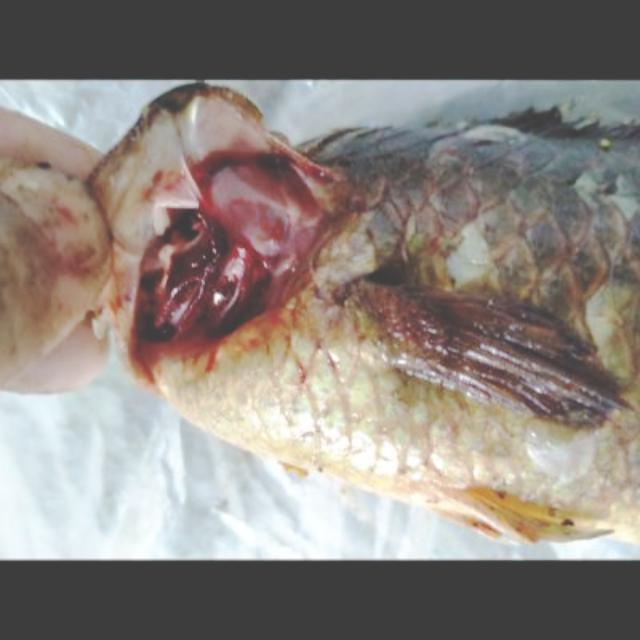Flavobacterium -Bacterial Gill Disease-: (88, 77, 637, 550), (90, 83, 638, 541)
